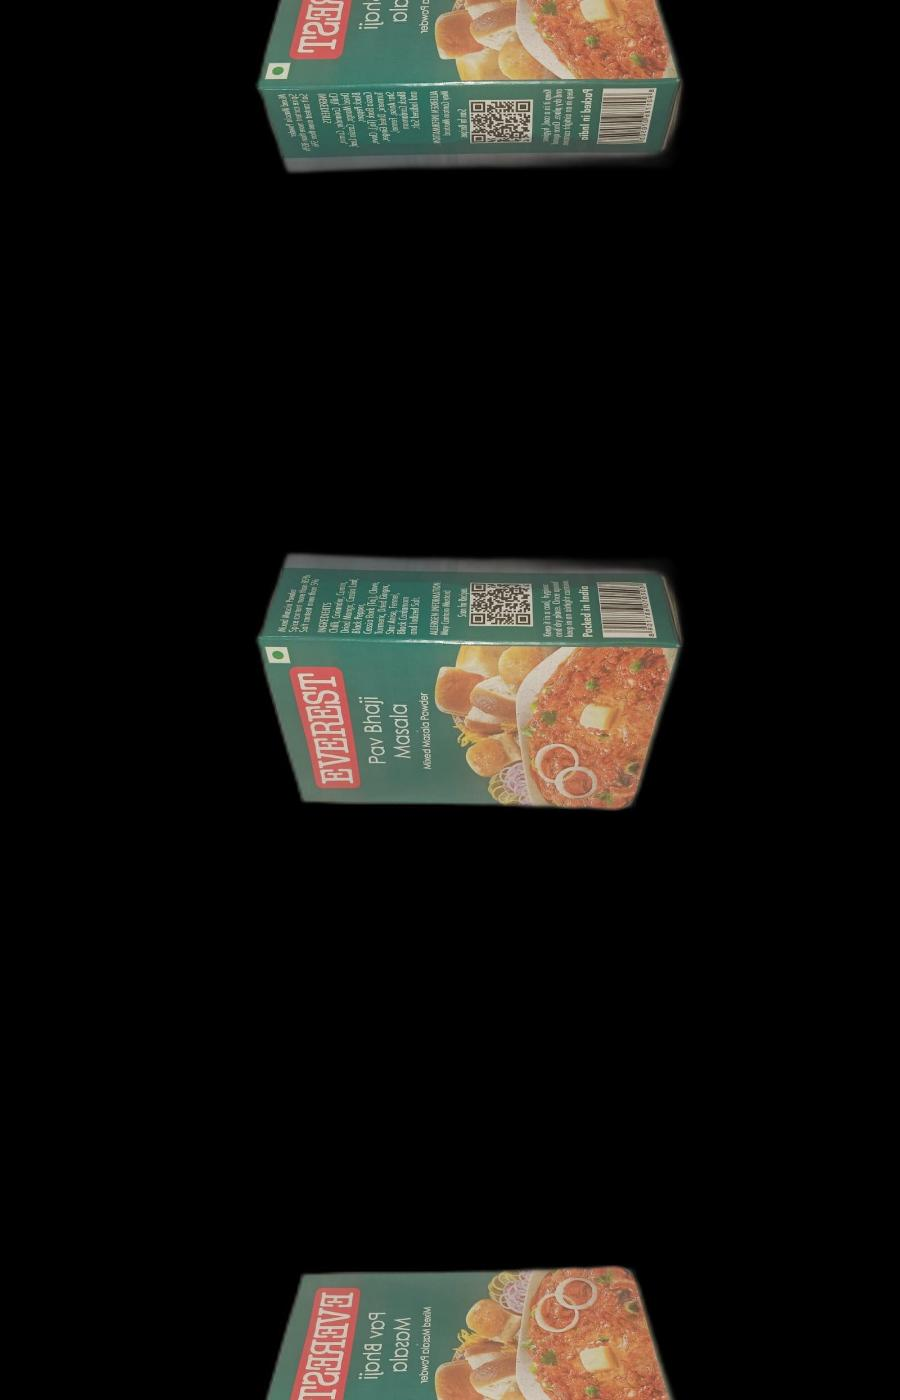Everest Pav Bhaji Masala 100 g: (254, 546, 682, 818), (254, 0, 681, 178), (254, 1256, 681, 1400)
